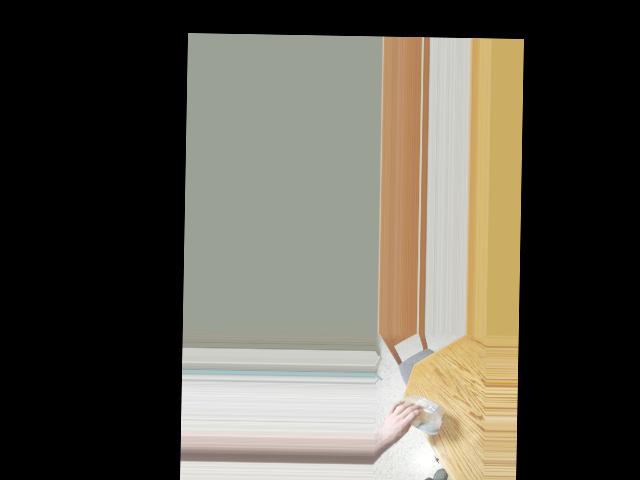cheese: (400, 400, 442, 430)
